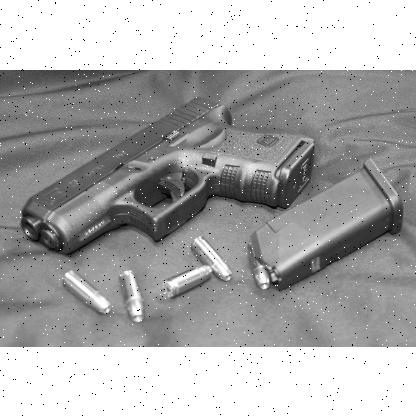gun: (20, 95, 314, 253)
